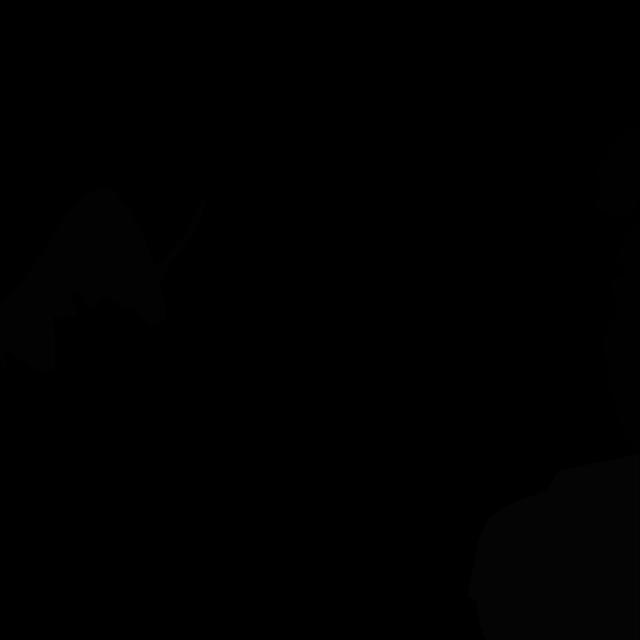cardboard: (0, 186, 206, 371)
rigid_plastic: (594, 124, 640, 320), (602, 321, 640, 455)
soft_plastic: (467, 454, 640, 640)
